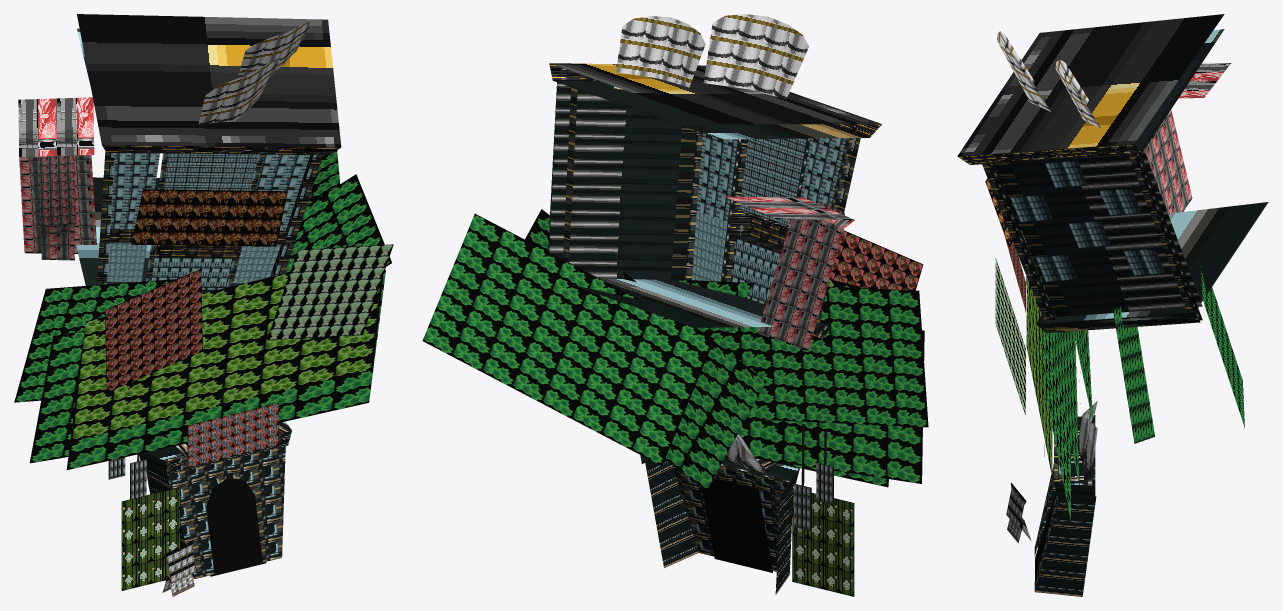
The model's file is tp_bra00.gltf.
3 renders of one model, left to right at view 1: azimuth 30°, elevation 25°; view 2: azimuth 150°, elevation 25°; view 3: azimuth 270°, elevation 25°, orthographic. The views are drawn at different scales.
Visible parts, largest first — view 1: tp_bra00; view 2: tp_bra00; view 3: tp_bra00.
Boxes of the visible parts, bbox=[...] form: tp_bra00: bbox=[14, 14, 393, 596]; tp_bra00: bbox=[422, 14, 928, 596]; tp_bra00: bbox=[957, 14, 1268, 596].
Bounding box in the file's own units: 5.84 × 7.1 × 3.76.
18 materials, 18 textured.
